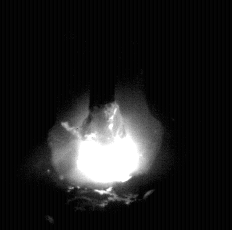arame: (90, 0, 116, 112)
poca: (49, 0, 162, 230)
